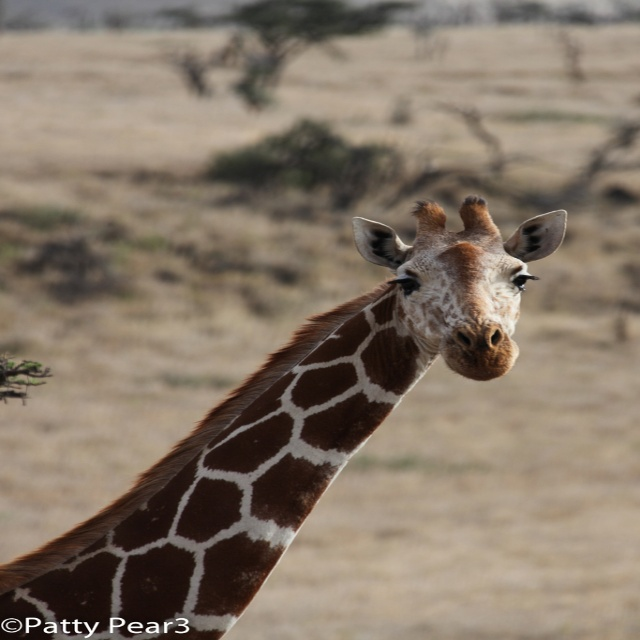Giraffe: (0, 203, 558, 633)
